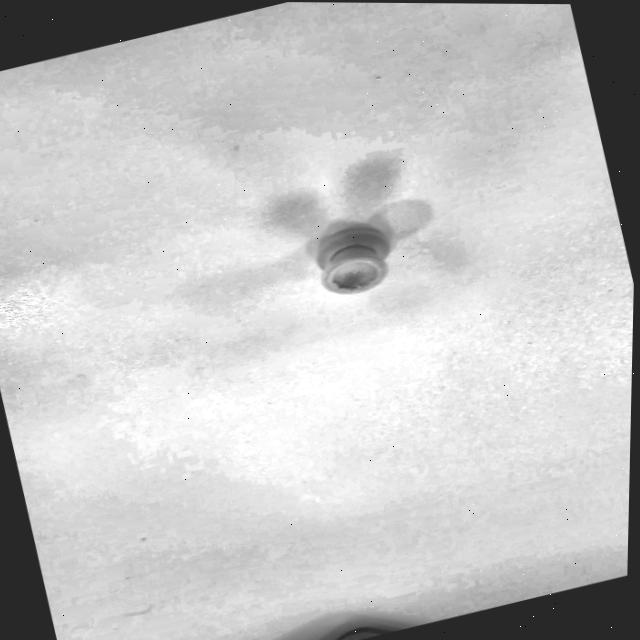white-rook: (269, 195, 421, 315)
